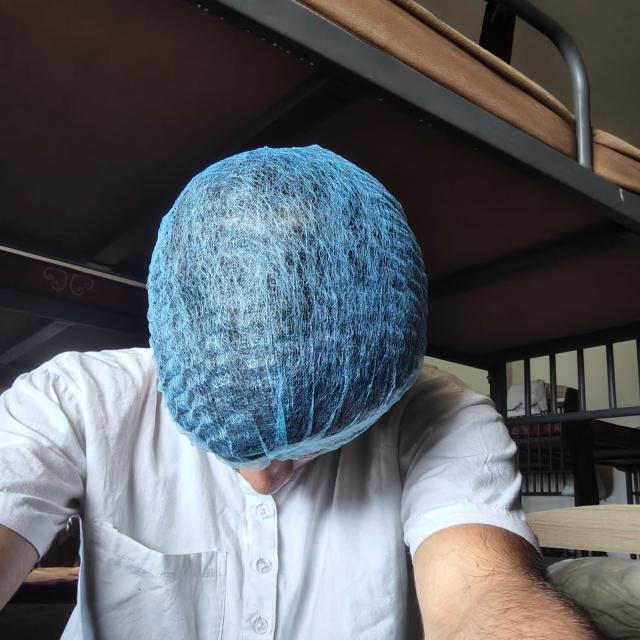hairnet-detection: (147, 144, 428, 494)
